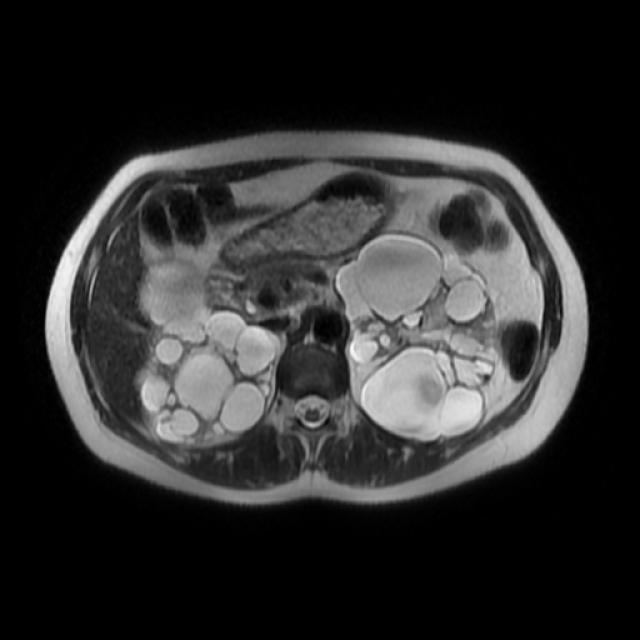sag: (135, 257, 282, 450)
sol: (333, 231, 501, 442)
